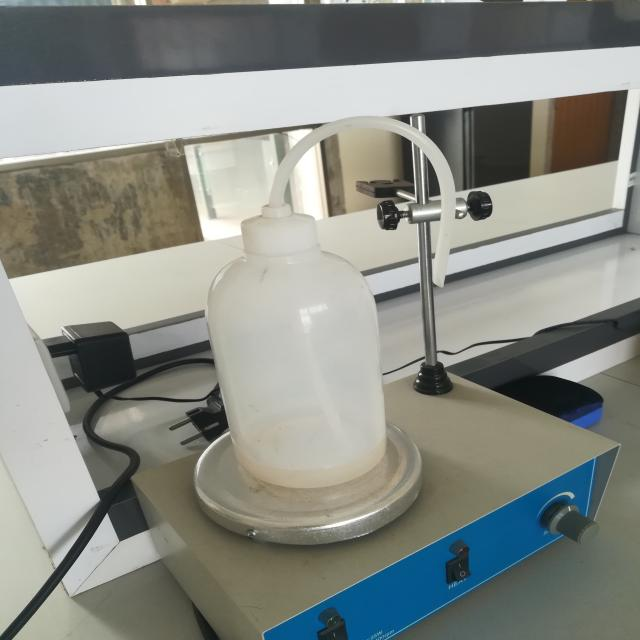Wash_Bottle: (153, 72, 513, 540)
